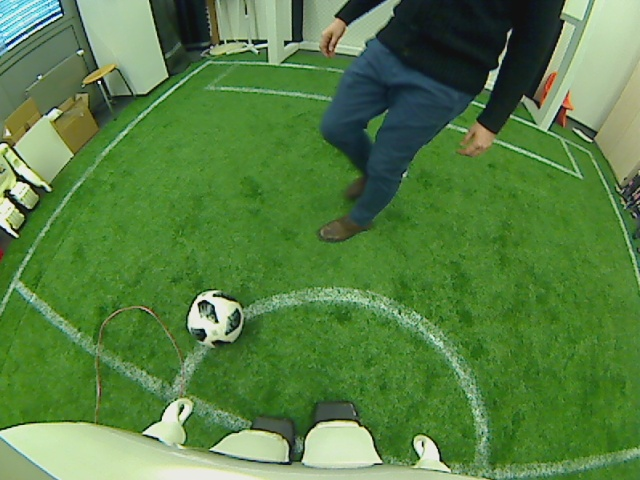ball: (184, 291, 246, 344)
